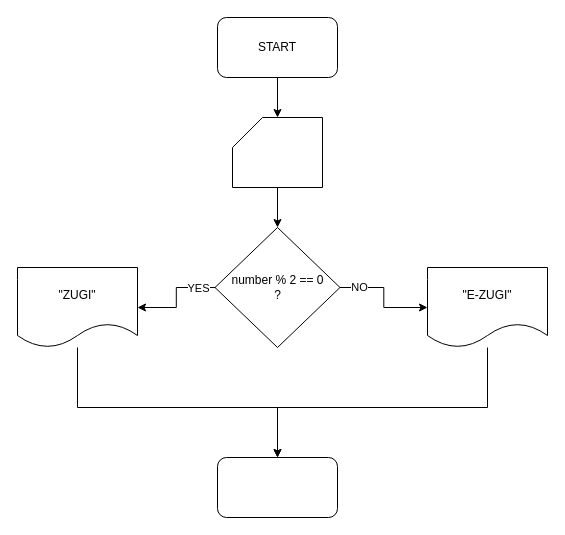
Image size: 565x535. Some labels were removed from this diagram. The centre of each missing label's shape, as x and y in pixels:
"number" goes at (277,152).
"STOP" goes at (277,487).
